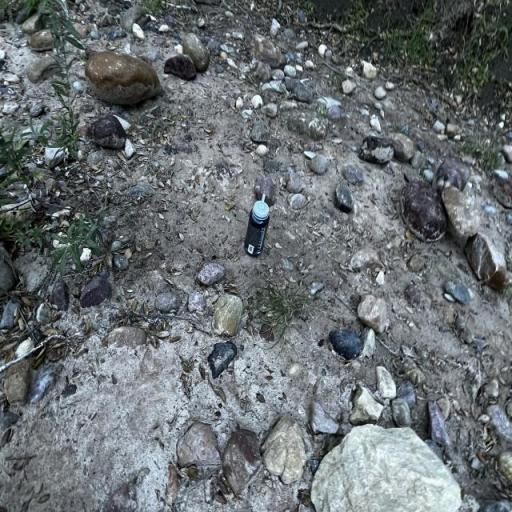bottle: (244, 193, 270, 257)
